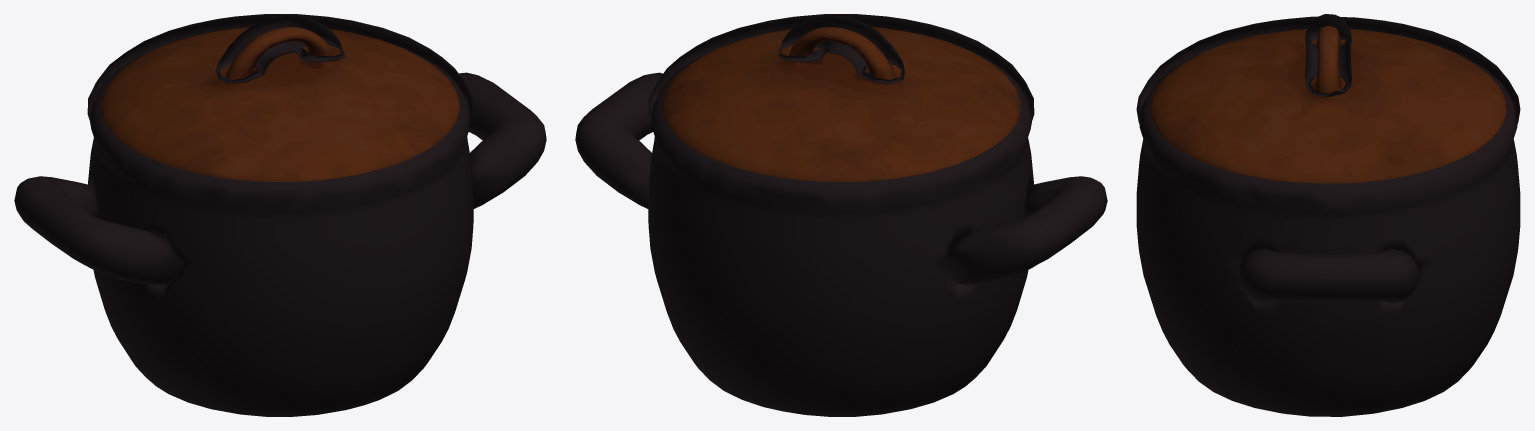
The model's file is SM_Int_EnamelPot.fbx.
The picture shows the model from 3 angles, left to right: view 1: azimuth 30°, elevation 25°; view 2: azimuth 150°, elevation 25°; view 3: azimuth 270°, elevation 25°; orthographic projection.
Visible parts, largest first — view 1: SM_Int_EnamelPot; view 2: SM_Int_EnamelPot; view 3: SM_Int_EnamelPot.
Part boxes in pixels (<box>): SM_Int_EnamelPot: <box>14,14,546,416</box>; SM_Int_EnamelPot: <box>575,14,1107,416</box>; SM_Int_EnamelPot: <box>1136,14,1520,416</box>.
Size of the model in its own units: 0.2749 by 0.1901 by 0.1923.
